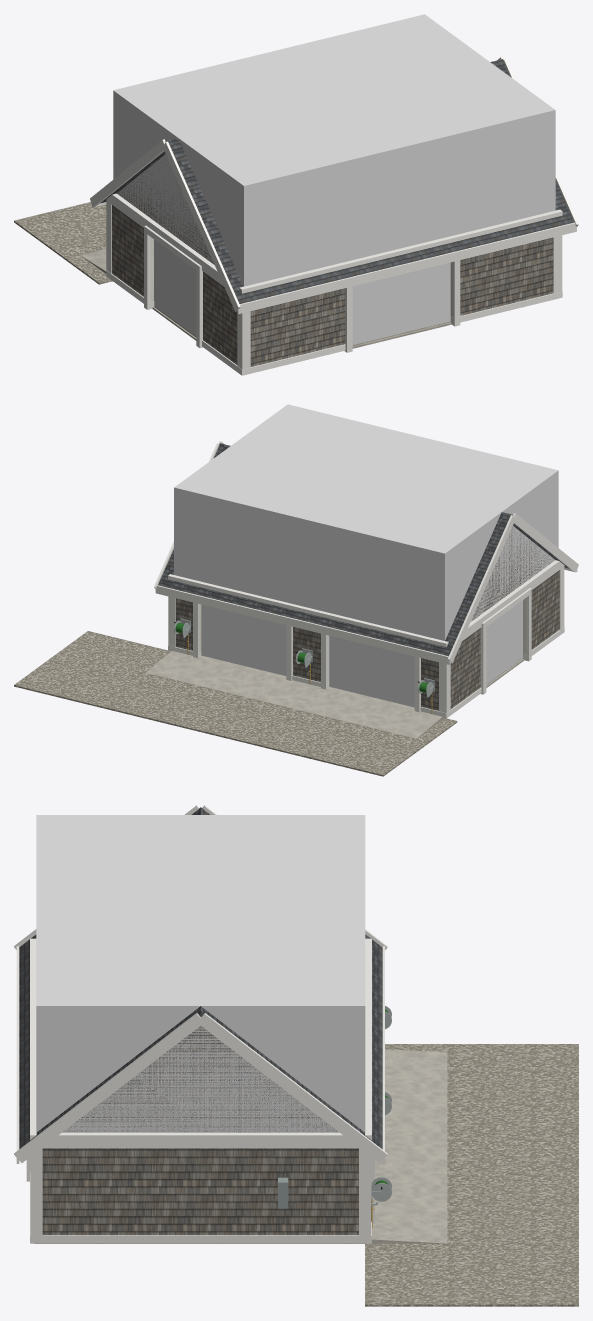
The model's file is cart_barn_l1.gltf.
3 renders of one model, top to bottom at view 1: azimuth 30°, elevation 25°; view 2: azimuth 150°, elevation 25°; view 3: azimuth 270°, elevation 25°, orthographic. The views are drawn at different scales.
Visible parts, largest first — view 1: COL_barn0, WALLS_HIGH, BASE, ROOF; view 2: COL_barn0, BASE, WALLS_HIGH, ROOF; view 3: COL_barn0, BASE, WALLS_HIGH, ROOF.
Boxes of the visible parts, x1=… form: COL_barn0: x1=113, y1=14, x2=555, y2=345; WALLS_HIGH: x1=106, y1=193, x2=562, y2=352; BASE: x1=14, y1=202, x2=562, y2=375; ROOF: x1=90, y1=57, x2=578, y2=314; COL_barn0: x1=174, y1=404, x2=558, y2=707; BASE: x1=14, y1=604, x2=564, y2=776; WALLS_HIGH: x1=168, y1=560, x2=564, y2=714; ROOF: x1=154, y1=441, x2=578, y2=664; COL_barn0: x1=36, y1=815, x2=365, y2=1132; BASE: x1=30, y1=1044, x2=578, y2=1306; WALLS_HIGH: x1=26, y1=938, x2=391, y2=1228; ROOF: x1=14, y1=805, x2=387, y2=1163.
Bounding box in the file's own units: 15.01 × 6.48 × 13.75.
Materials: 17 (5 with a texture image).
